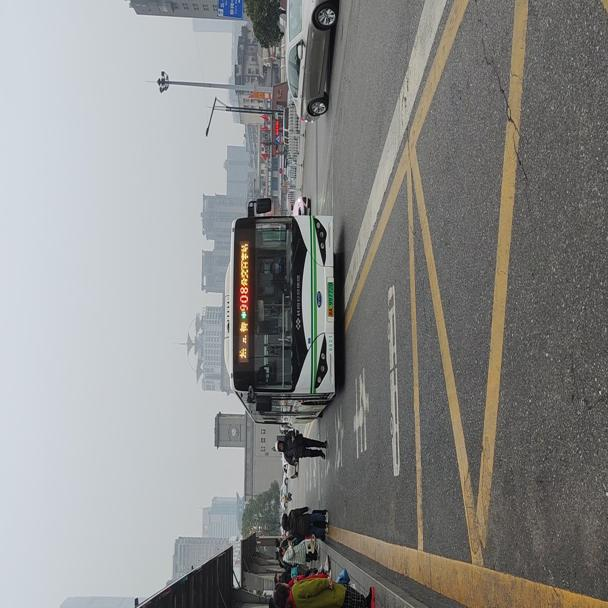bus: (224, 197, 338, 425)
screen: (235, 283, 252, 310)
